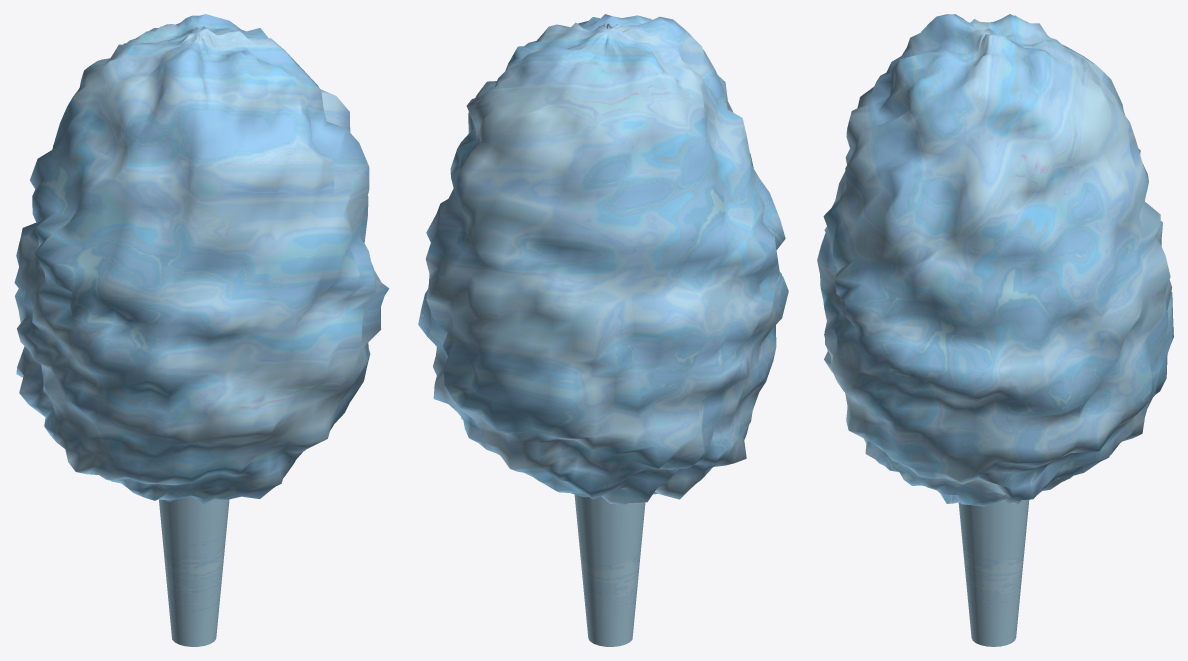
File: Arbol1A.fbx
The picture shows the model from 3 angles, left to right: view 1: azimuth 30°, elevation 25°; view 2: azimuth 150°, elevation 25°; view 3: azimuth 270°, elevation 25°; orthographic projection.
Visible parts, largest first — view 1: boom_010; view 2: boom_010; view 3: boom_010.
Part boxes in pixels (x1,y1,x2,y2): boom_010: (14,14,389,646); boom_010: (418,14,788,646); boom_010: (817,14,1173,646).
Size of the model in its own units: 50.19 by 89.11 by 47.33.
1 material, 1 textured.
